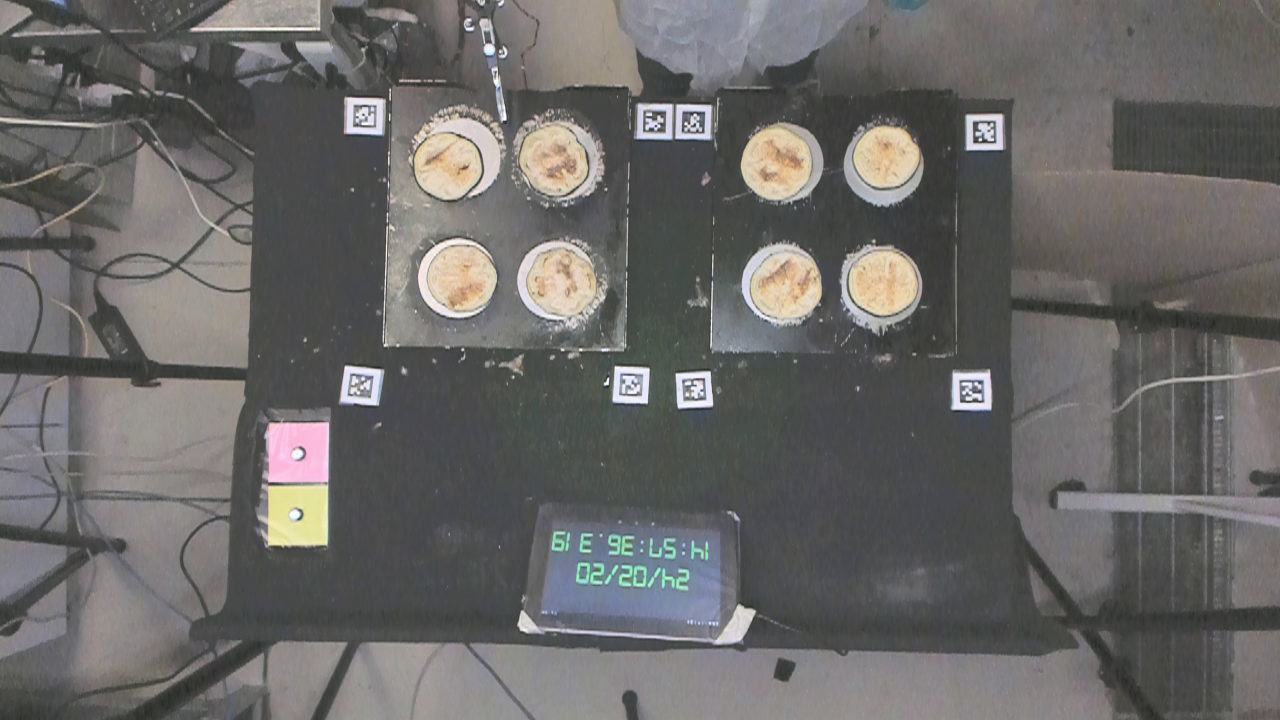eggplant: (738, 124, 818, 210), (748, 237, 824, 325), (429, 231, 501, 320), (849, 237, 924, 320), (847, 124, 929, 199), (516, 121, 594, 197), (408, 131, 486, 203), (520, 249, 601, 316)
marker: (265, 419, 331, 484)
